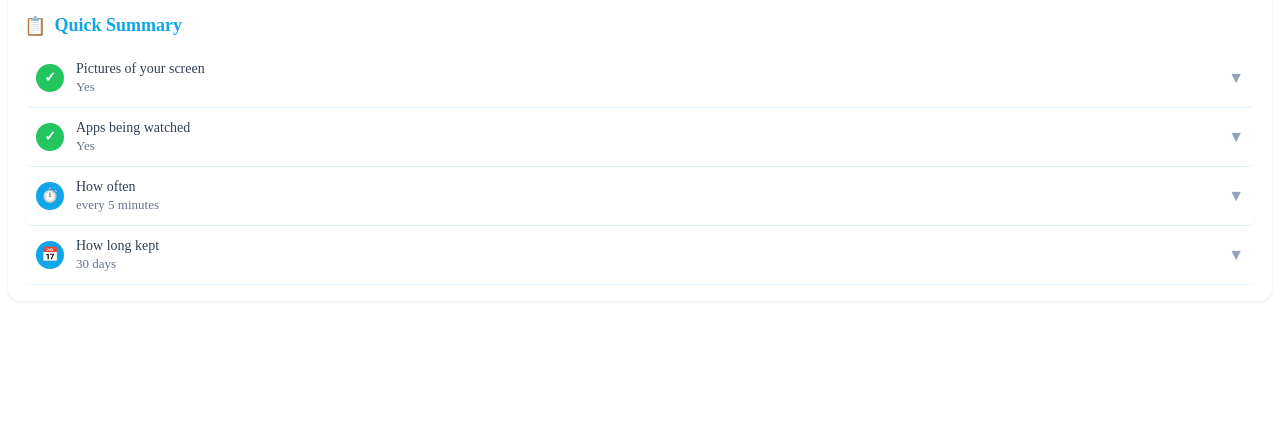
Test: AgreementChecklist › Task 6.2: Expand/collapse functionality › should allow multiple items to be expanded
The width and height of the screenshot is (1280, 438).
Click the button with test id "checklist-item-screenshots".
click(140, 68)  # box [24,49,1256,108]
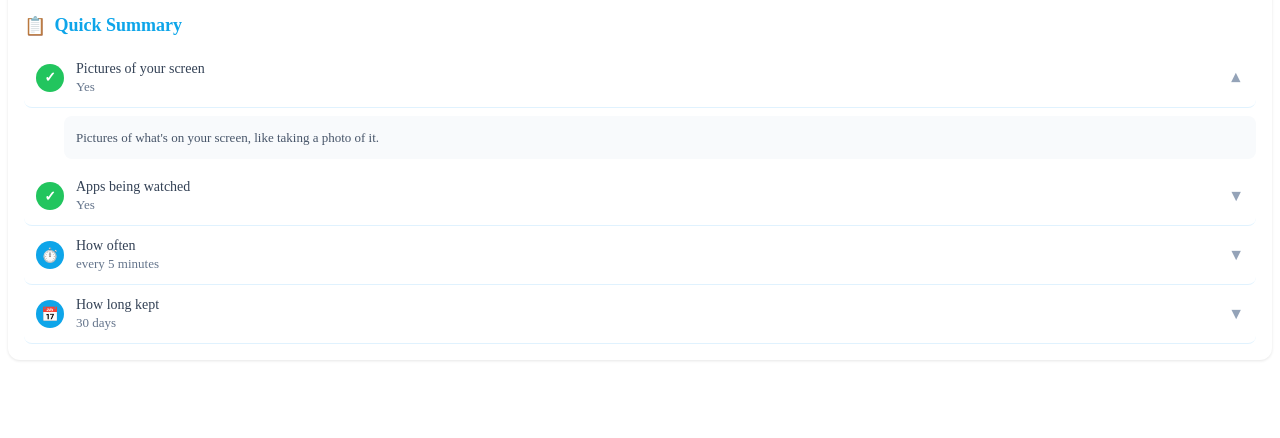
Click the button with test id "checklist-item-apps".
click(133, 187)  # box [24,167,1256,226]
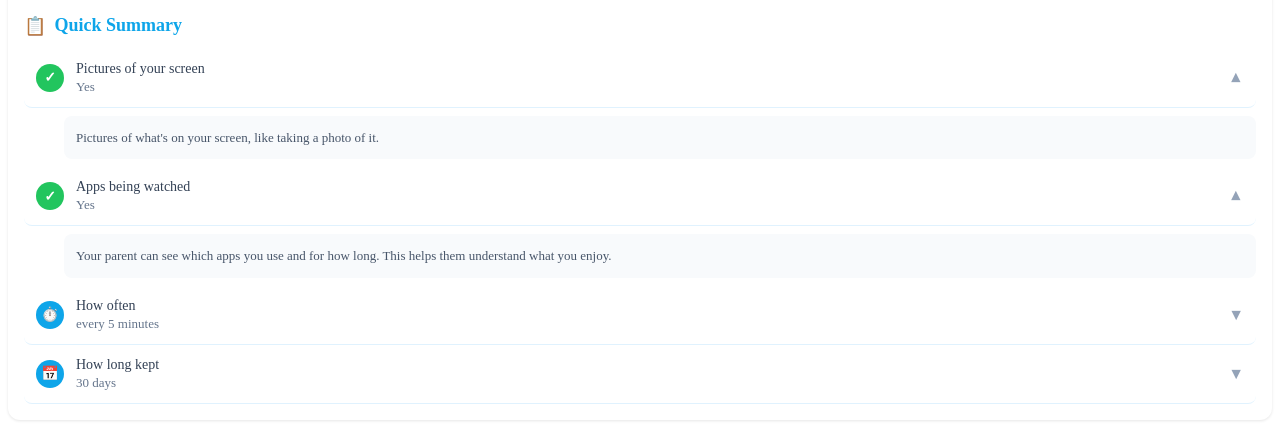
Now the text with test id "checklist-item-screenshots-details" is shown, box [64,116,1256,159]
Now the text with test id "checklist-item-apps-details" is shown, box [64,234,1256,278]
